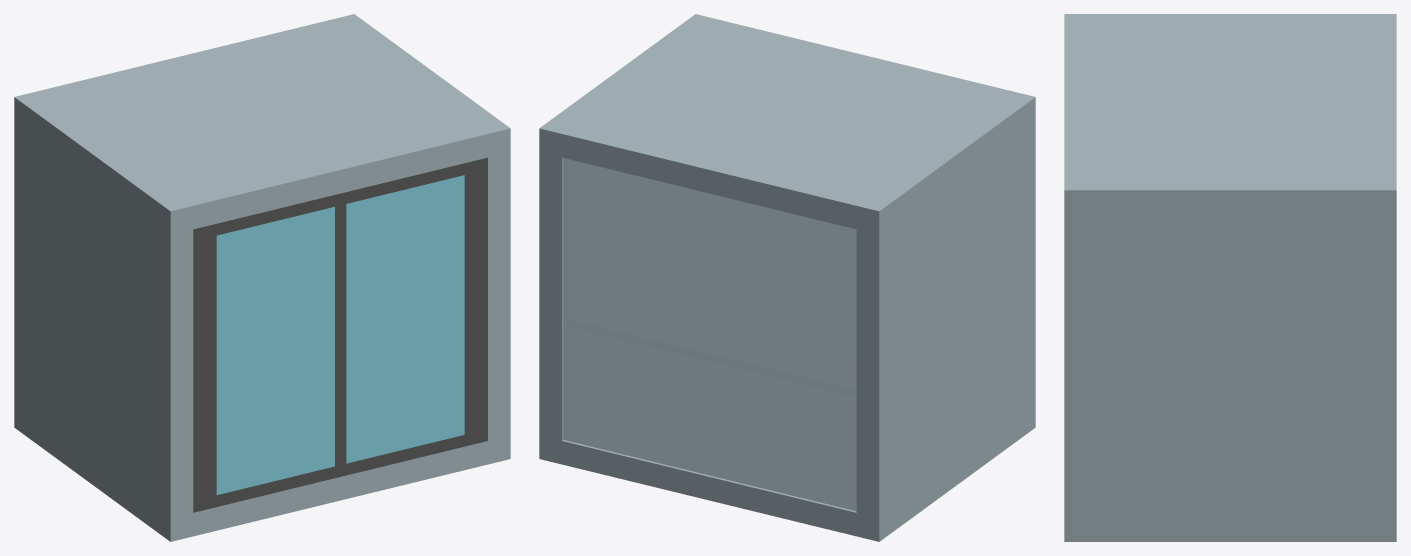
Rendered from TestLift.fbx.
3 views of the same model, side by side, from view 1: azimuth 30°, elevation 25°; view 2: azimuth 150°, elevation 25°; view 3: azimuth 270°, elevation 25° (orthographic). The views are drawn at different scales.
Parts seen in each view (by area): view 1: ewall.003; view 2: ewall.003; view 3: ewall.003.
Part boxes in pixels (x1,y1,x2,y2): ewall.003: (14,14,510,541); ewall.003: (539,14,1035,541); ewall.003: (1064,14,1396,541).
Bounding box in the file's own units: 377 × 350 × 300.
